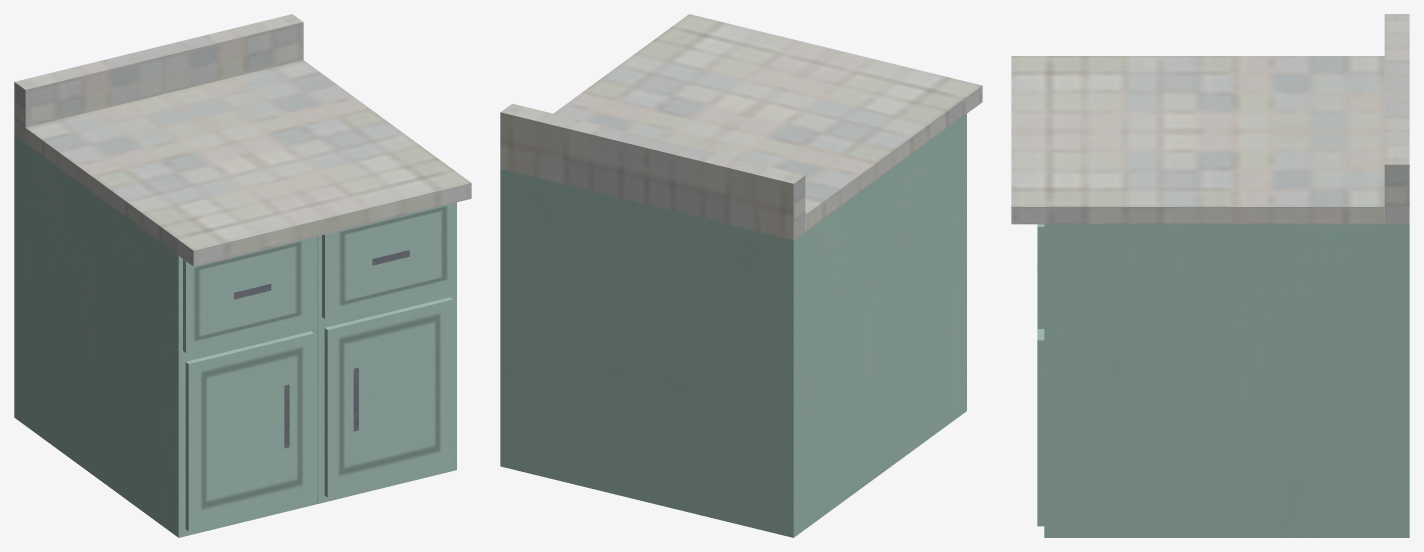
The model's file is Counter.fbx.
3 renders of one model, left to right at view 1: azimuth 30°, elevation 25°; view 2: azimuth 150°, elevation 25°; view 3: azimuth 270°, elevation 25°, orthographic. The views are drawn at different scales.
Parts seen in each view (by area): view 1: Cube.001; view 2: Cube.001; view 3: Cube.001.
Part boxes in pixels (<box>): Cube.001: <box>14,14,471,537</box>; Cube.001: <box>500,14,982,537</box>; Cube.001: <box>1011,14,1409,537</box>.
Bounding box in the file's own units: 1491 × 1721 × 1663.
Materials: 1 (1 with a texture image).
